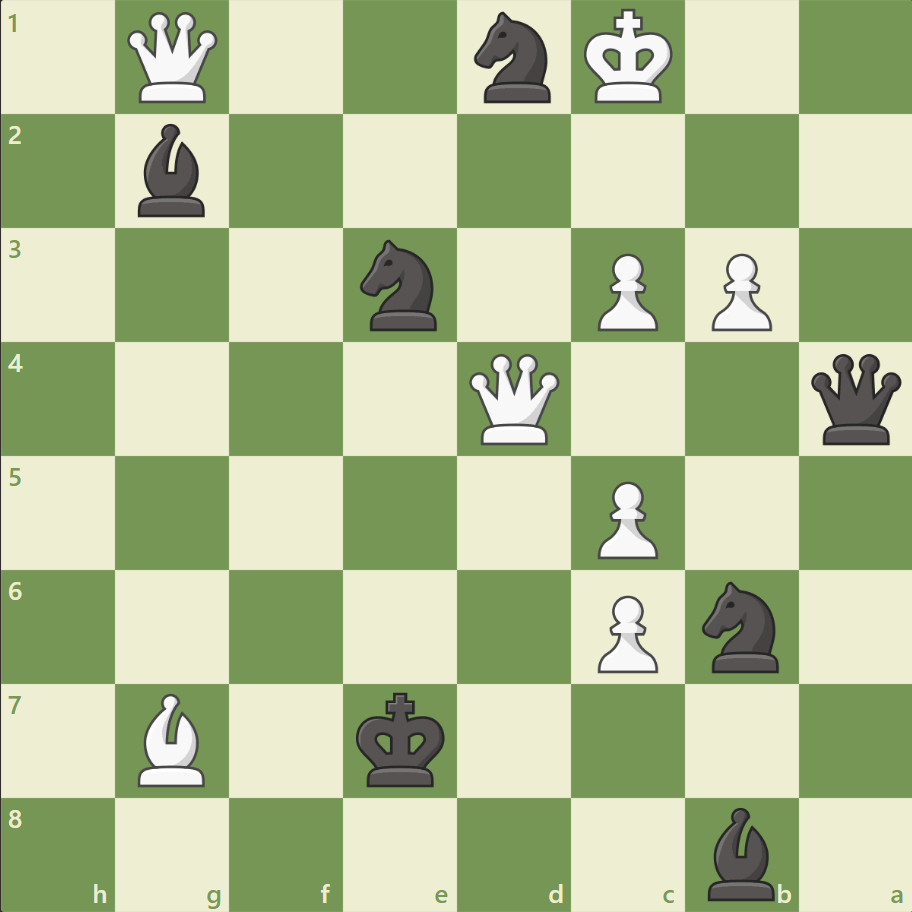B: (131, 687, 215, 790)
K: (579, 4, 679, 112)
P: (701, 246, 776, 337), (588, 586, 662, 677), (588, 473, 662, 564), (588, 246, 662, 337)
Q: (464, 349, 563, 449), (124, 9, 223, 108)
b: (698, 801, 782, 904), (131, 120, 215, 222)
k: (351, 685, 451, 793)
n: (351, 234, 449, 337), (465, 7, 562, 110), (692, 575, 789, 677)
q: (805, 349, 904, 449)
